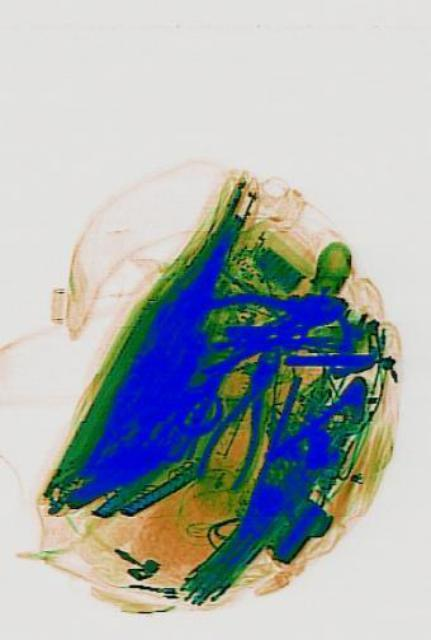Pliers: (189, 262, 352, 378), (192, 326, 297, 504)
